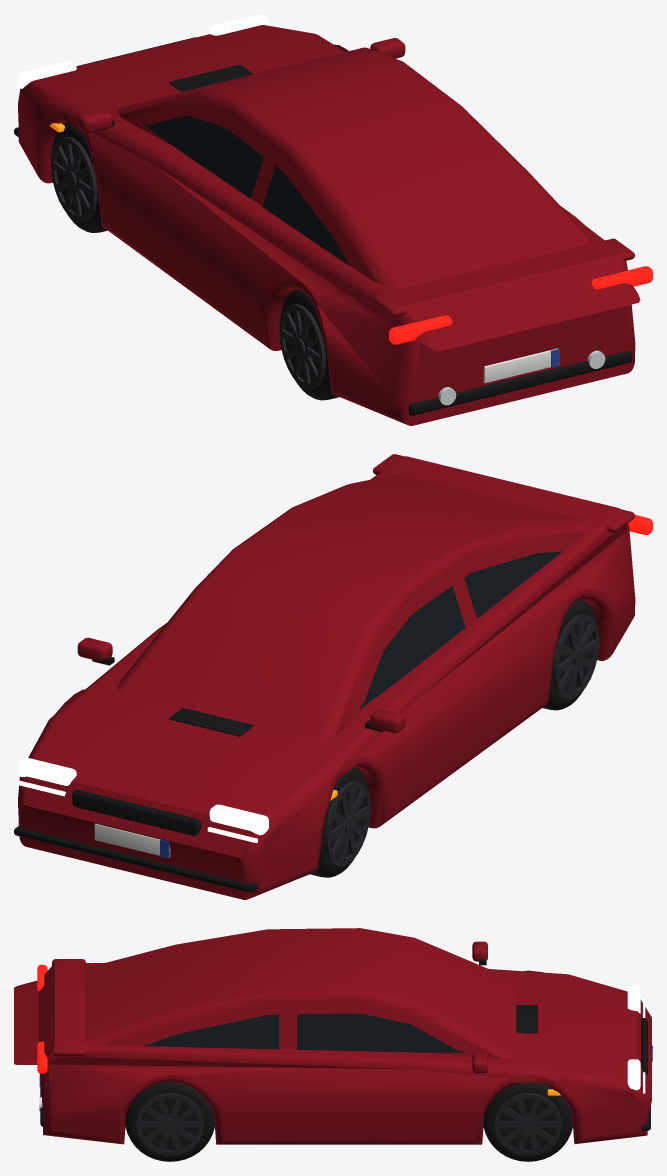
Rendered from coupe.glb.
3 renders of one model, top to bottom at view 1: azimuth 30°, elevation 25°; view 2: azimuth 150°, elevation 25°; view 3: azimuth 270°, elevation 25°, orthographic. The views are drawn at different scales.
Parts seen in each view (by area): view 1: body, cabin, win_front_-1, wheel_rear_l, wheel_front_l, diffuser, win_rear_-1, ducktail, plate_-1, bonnet_vent, tail_-1, tail_1 (+3 smaller); view 2: body, cabin, win_front_-1, wheel_front_l, wheel_rear_l, win_rear_-1, grille, splitter, plate_1, bonnet_vent, head_-1, head_1 (+3 smaller); view 3: body, cabin, wheel_rear_r, wheel_front_r, win_front_1, win_rear_1, ducktail, bonnet_vent, head_1, grille, head_-1.
Boxes of the visible parts, <box> form: body: <box>18,25,635,425</box>; cabin: <box>117,47,640,351</box>; win_front_-1: <box>142,116,263,198</box>; wheel_rear_l: <box>279,289,339,400</box>; wheel_front_l: <box>51,122,107,232</box>; diffuser: <box>408,350,632,415</box>; win_rear_-1: <box>262,166,349,266</box>; ducktail: <box>373,238,634,316</box>; plate_-1: <box>483,348,558,383</box>; bonnet_vent: <box>169,64,253,91</box>; tail_-1: <box>389,315,452,344</box>; tail_1: <box>591,266,652,289</box>; body: <box>18,456,635,899</box>; cabin: <box>117,474,638,740</box>; win_front_-1: <box>359,586,465,709</box>; wheel_front_l: <box>310,767,370,877</box>; wheel_rear_l: <box>542,599,599,710</box>; win_rear_-1: <box>464,551,561,618</box>; grille: <box>72,790,201,835</box>; splitter: <box>14,826,257,892</box>; plate_1: <box>94,823,170,856</box>; bonnet_vent: <box>169,708,253,736</box>; head_-1: <box>209,804,268,835</box>; head_1: <box>17,757,76,785</box>; body: <box>39,963,651,1144</box>; cabin: <box>14,928,516,1064</box>; wheel_rear_r: <box>125,1081,214,1161</box>; wheel_front_r: <box>483,1083,572,1161</box>; win_front_1: <box>297,1013,465,1052</box>; win_rear_1: <box>143,1014,279,1049</box>; ducktail: <box>52,959,85,1055</box>; bonnet_vent: <box>516,1005,537,1033</box>; head_1: <box>627,1059,640,1090</box>; grille: <box>641,1018,647,1075</box>; head_-1: <box>627,985,640,1013</box>.
Bounding box in the file's own units: 2.24 × 1.31 × 4.93.
